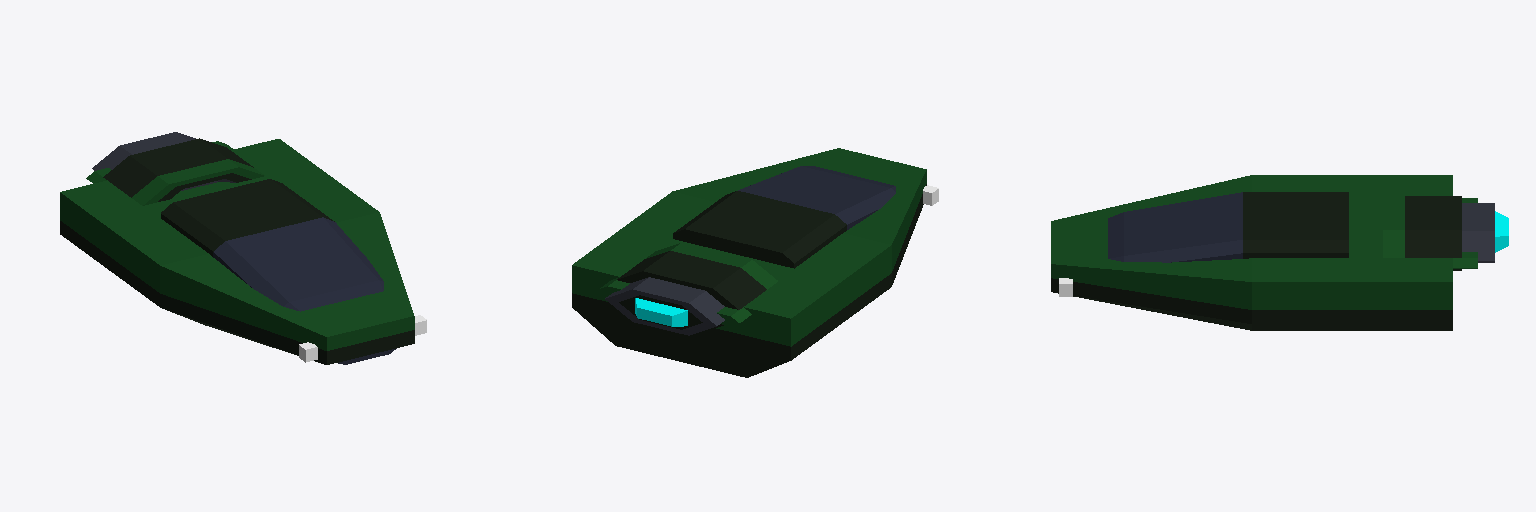
Rendered from car6.obj.
The picture shows the model from 3 angles: view 1: azimuth 30°, elevation 25°; view 2: azimuth 150°, elevation 25°; view 3: azimuth 270°, elevation 25°; orthographic projection.
Parts seen in each view (by area): view 1: mergedBlocks; view 2: mergedBlocks; view 3: mergedBlocks.
Part boxes in pixels (x1,y1,x2,y2): mergedBlocks: (60, 132, 426, 364); mergedBlocks: (572, 148, 938, 377); mergedBlocks: (1051, 175, 1508, 330).
Size of the model in its own units: 1.8 by 0.67 by 3.26.